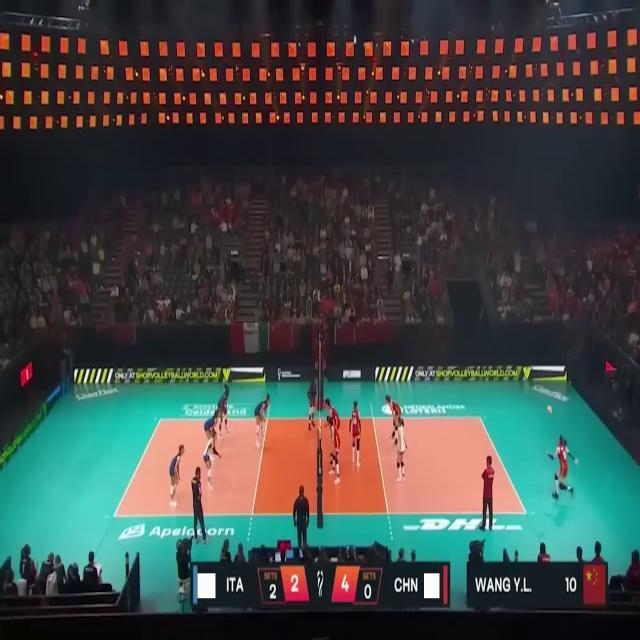volleyball: (546, 406, 553, 414)
